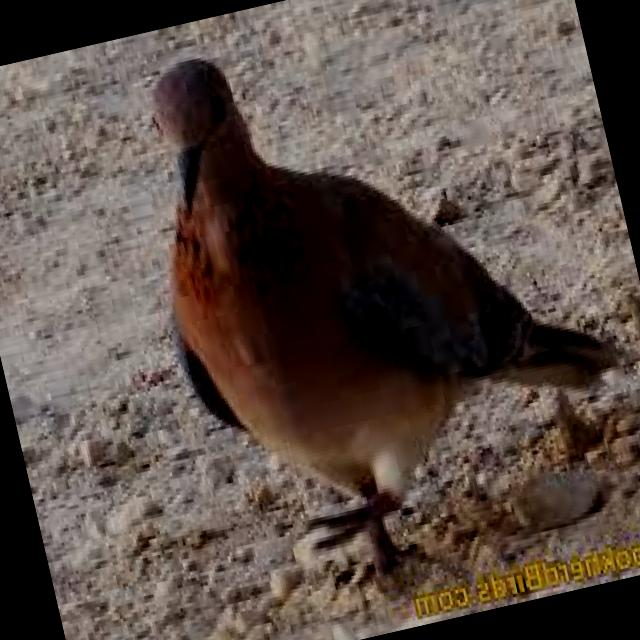bird: (85, 0, 640, 629)
